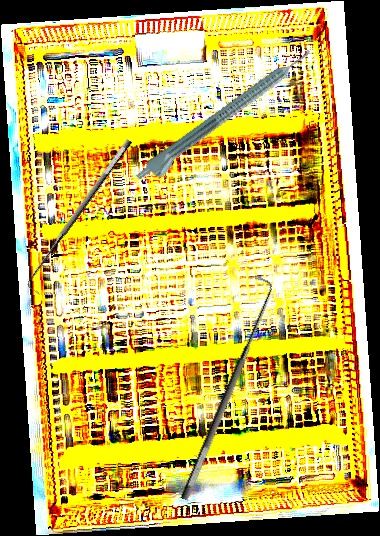Handpiece: (132, 46, 320, 191)
Hook Surgical: (163, 273, 283, 502), (19, 136, 145, 296)
